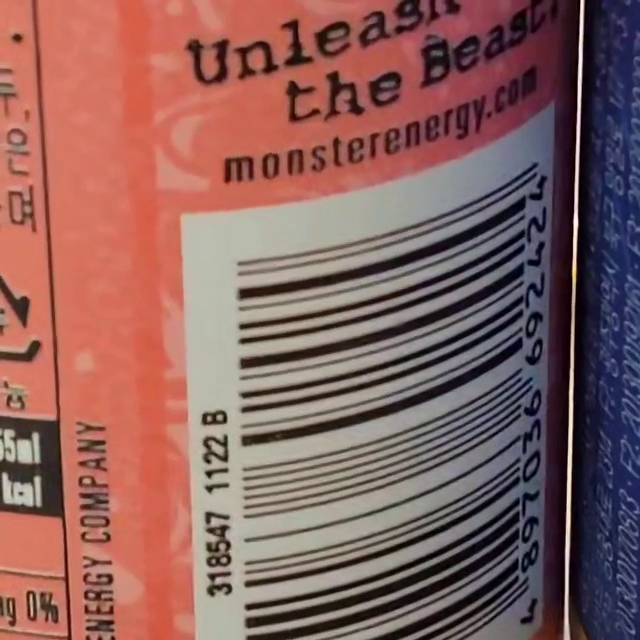Can: (0, 264, 43, 366)
